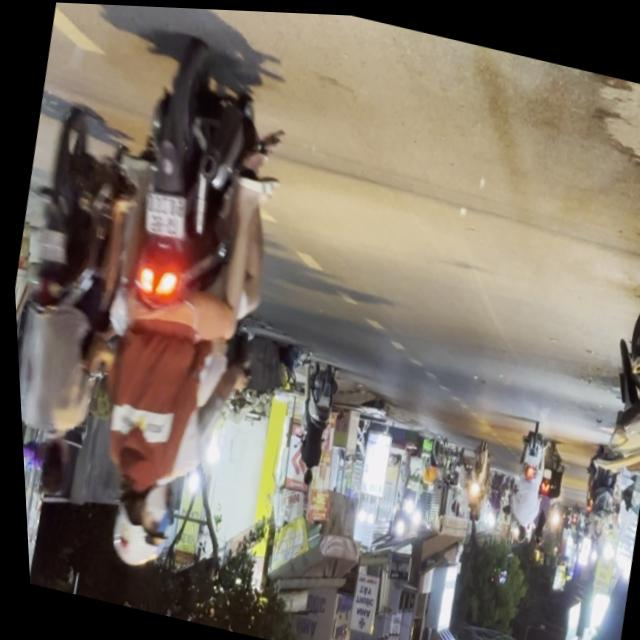helmet: (96, 470, 174, 571)
licenseplate: (42, 26, 320, 596), (4, 100, 159, 509)
motorcyclist: (25, 432, 66, 498)
nohelmet: (137, 190, 187, 240), (27, 228, 66, 267)
